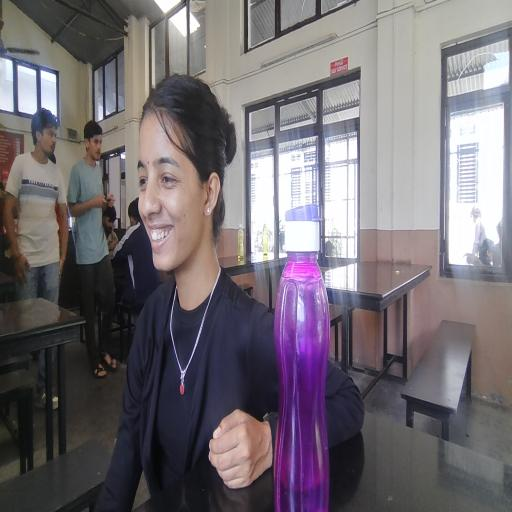Bottle: (278, 184, 332, 512)
